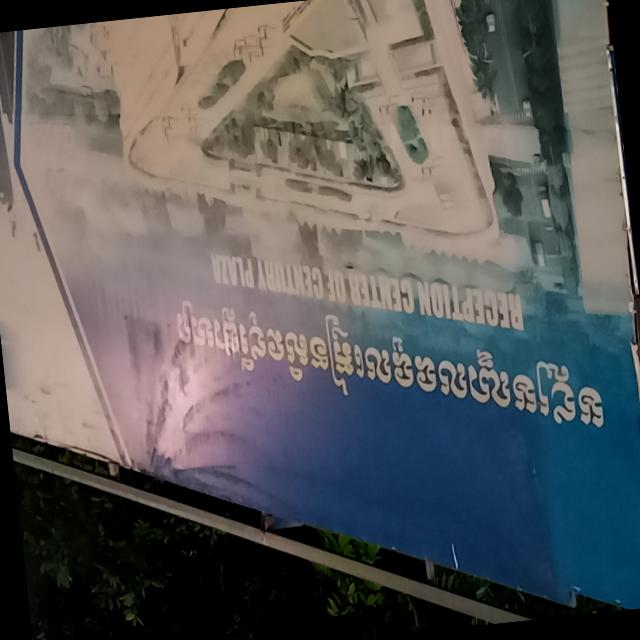Yolov11kh: (153, 283, 609, 449)
